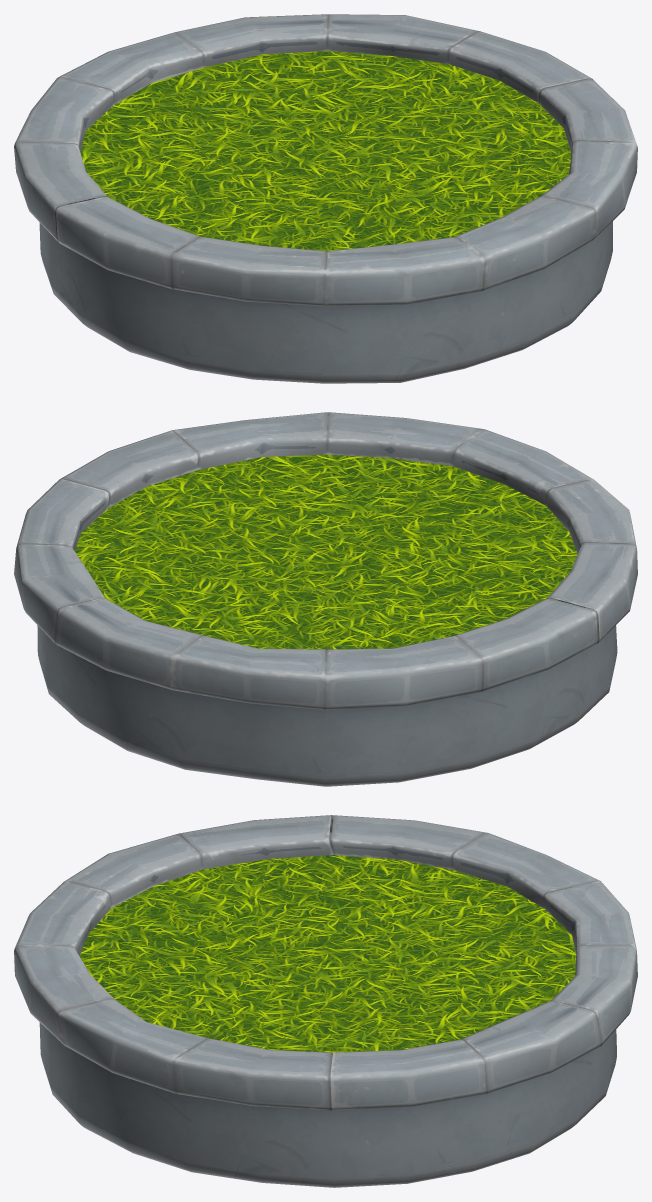
The model's file is StreetPlanter02_1.FBX.
3 views of the same model, one above another, from view 1: azimuth 30°, elevation 25°; view 2: azimuth 150°, elevation 25°; view 3: azimuth 270°, elevation 25° (orthographic).
Visible parts, largest first — view 1: StreetPlanter02_1; view 2: StreetPlanter02_1; view 3: StreetPlanter02_1.
Part boxes in pixels (box(x1,y1,x2,y2)): StreetPlanter02_1: box(14, 14, 637, 383); StreetPlanter02_1: box(14, 412, 637, 786); StreetPlanter02_1: box(14, 815, 637, 1187).
Size of what is drawn, in the model's own units: 1.41 by 0.3127 by 1.41.
